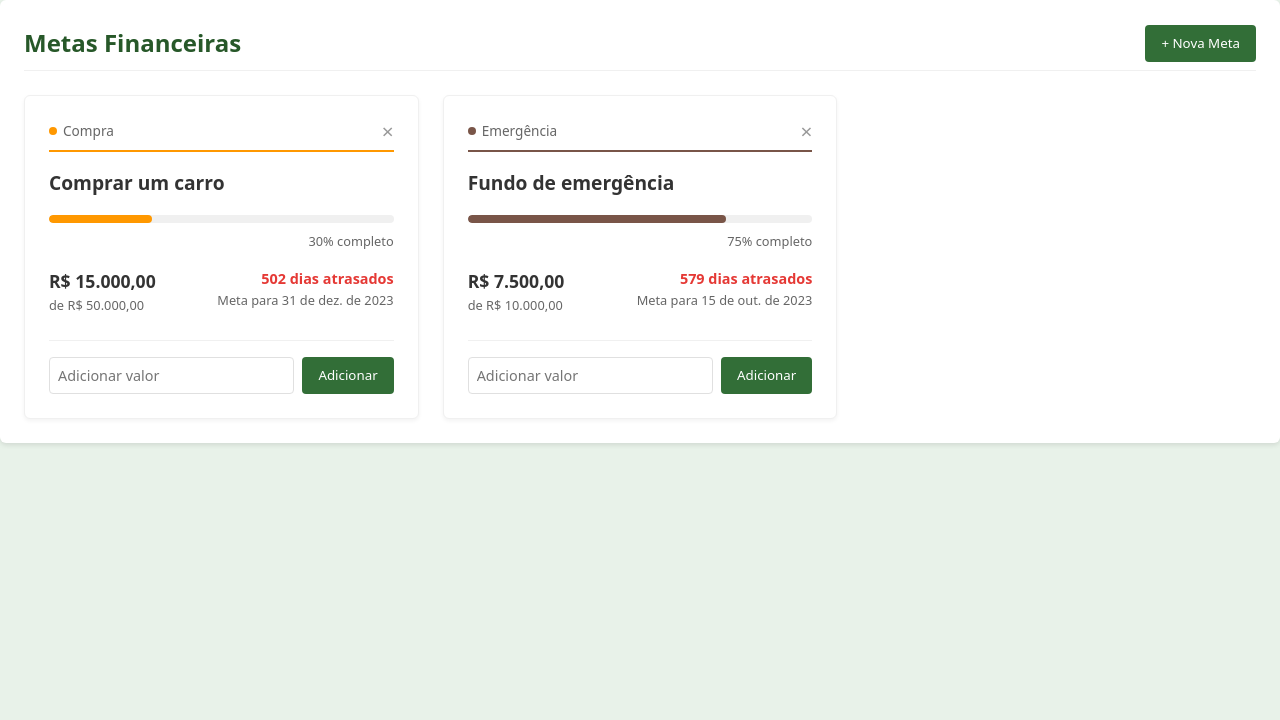
Componente Goals › deve mostrar o formulário de adição de meta quando o botão é clicado
expect the text "Adicionar Nova Meta" is not shown: met
Note: Clicar no botão para adicionar nova meta
Click the button "+ Nova Meta" at (1201, 43), box top-left (1145, 25), bottom-right (1256, 62)
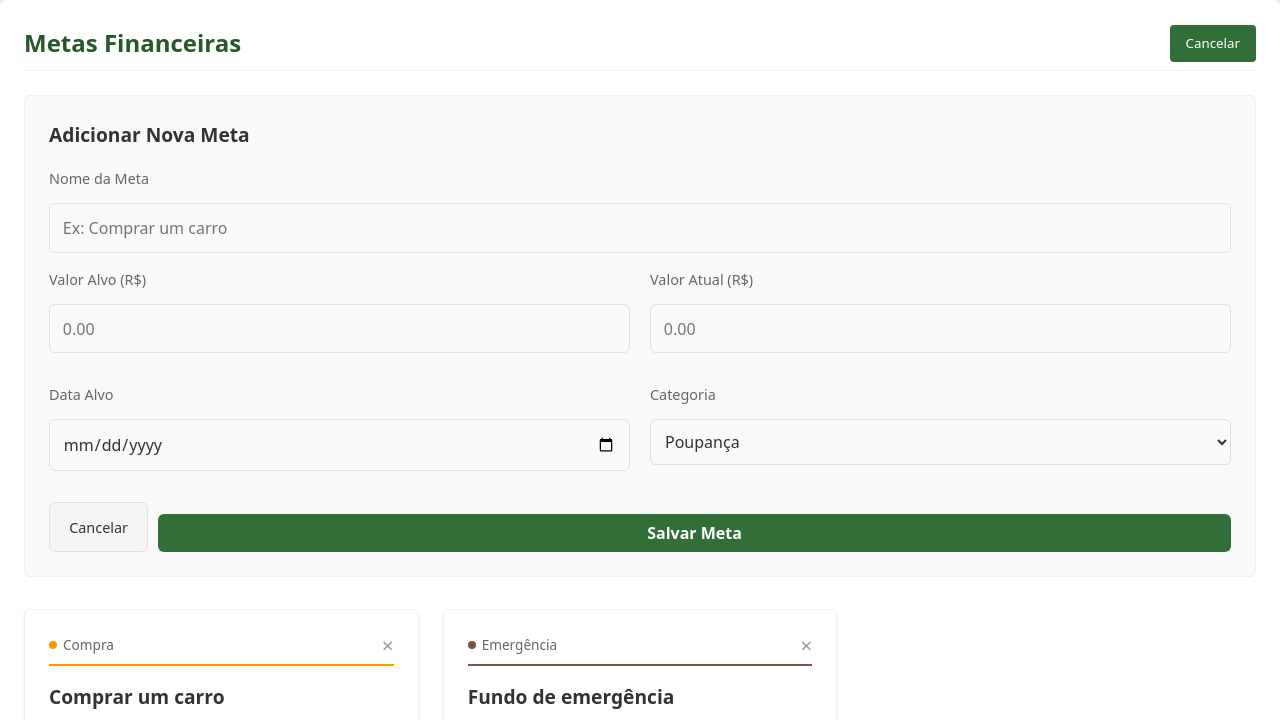
expect the heading "Adicionar Nova Meta" is shown: met, box top-left (49, 121), bottom-right (250, 148)
expect the field with placeholder "Ex: Comprar um carro" is shown: met, box top-left (49, 203), bottom-right (1231, 253)
